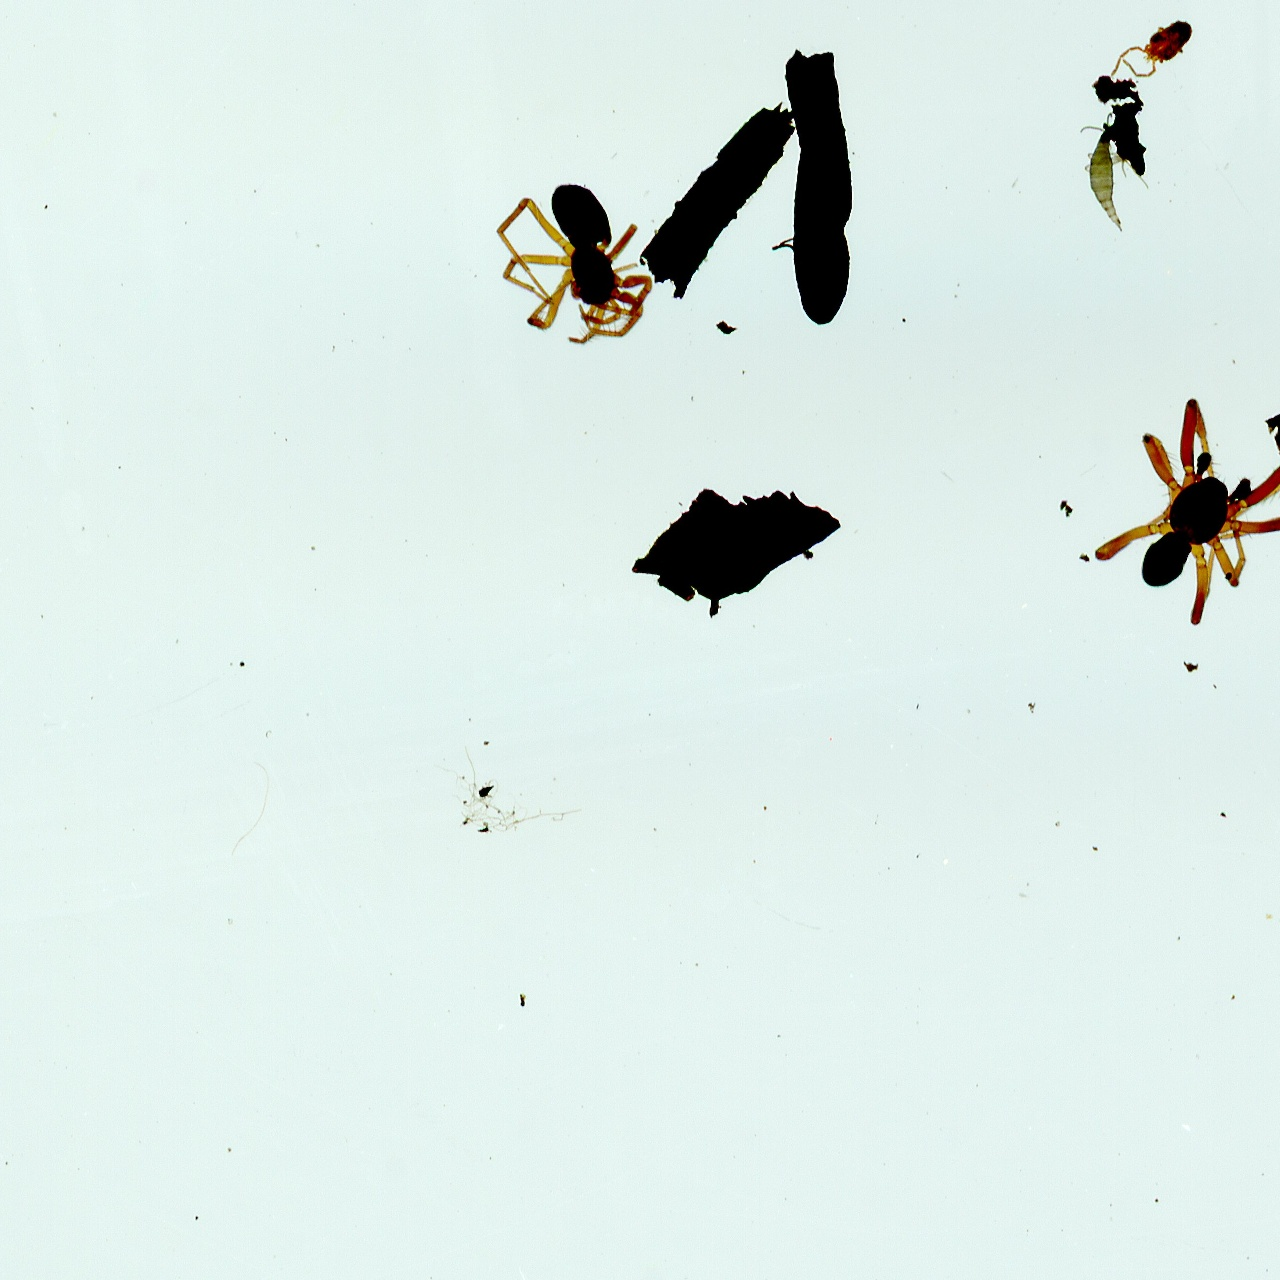arthropod: (1093, 395, 1280, 624), (494, 181, 653, 344), (1082, 116, 1126, 234), (1110, 19, 1193, 77)
